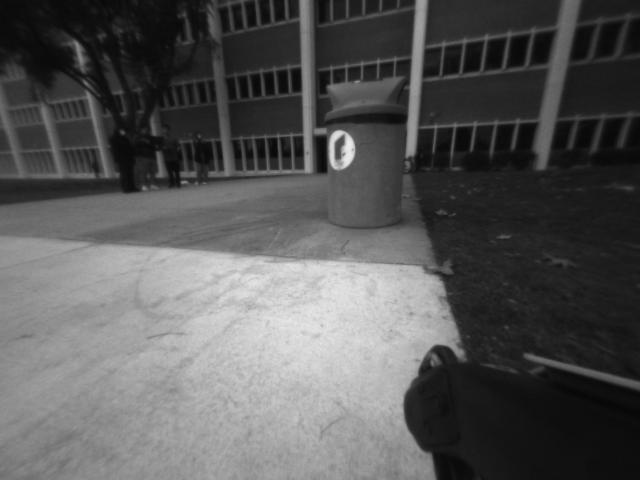trashcan: (317, 72, 414, 233)
